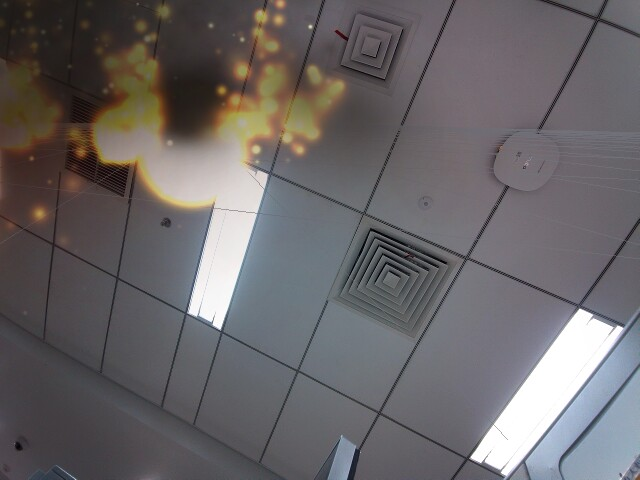fire: (141, 106, 251, 208), (92, 106, 143, 170)
